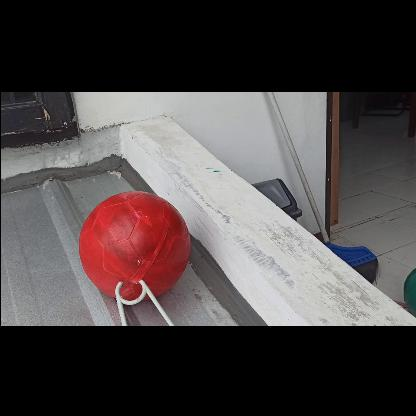red_ball: (77, 188, 188, 298)
